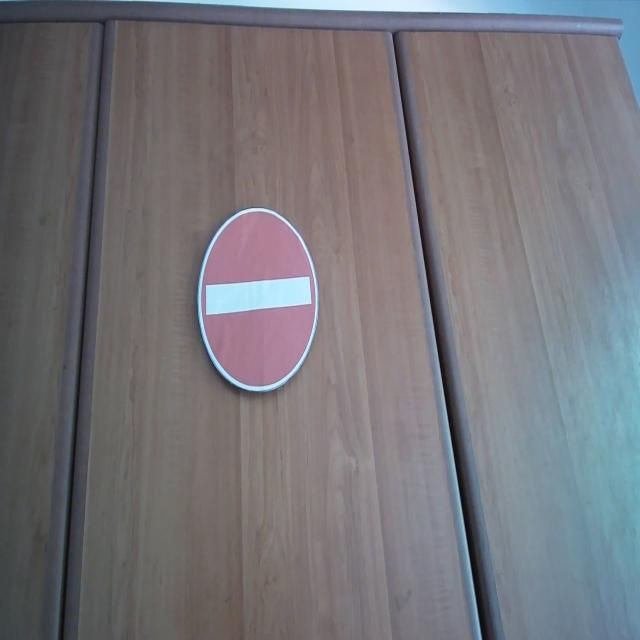no_entry: (196, 205, 320, 395)
